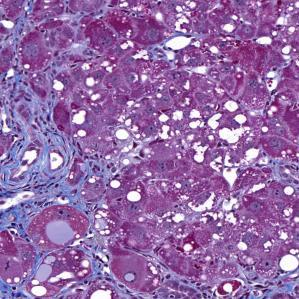fibrosis: (8, 108, 108, 221)
